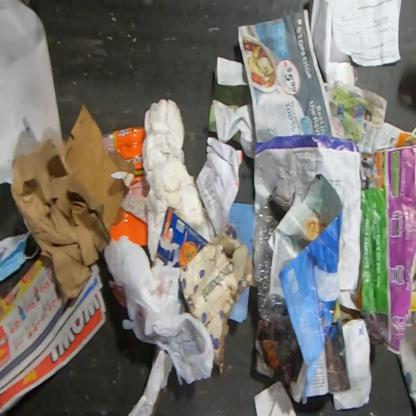cardboard: (10, 101, 138, 305), (178, 228, 256, 376)
rigid_plastic: (252, 198, 288, 323)
soft_plastic: (104, 234, 216, 387)
